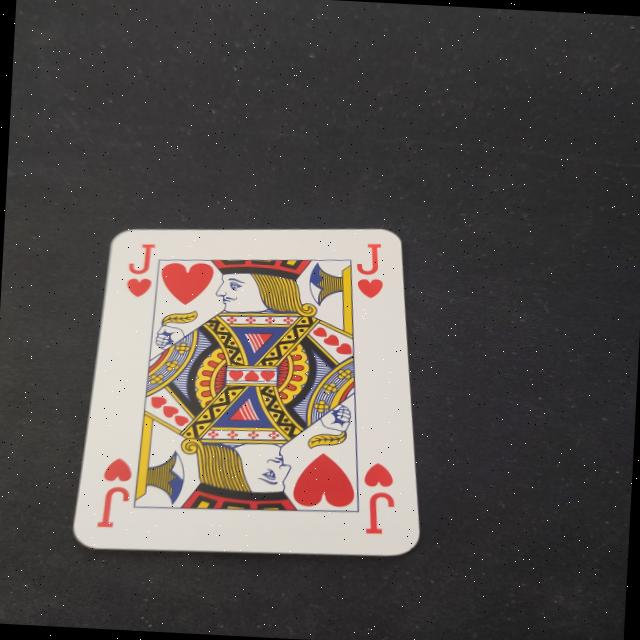Jh: (356, 458, 402, 542), (94, 452, 138, 534), (118, 240, 164, 302), (350, 238, 390, 305)
